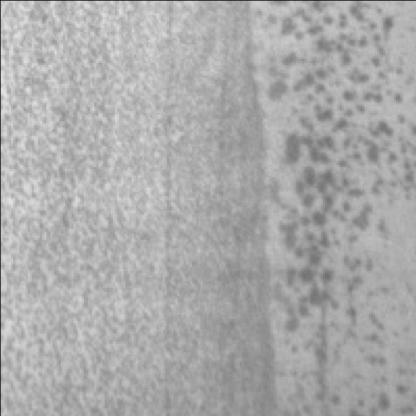pitted_surface: (2, 0, 258, 412), (276, 0, 414, 412)
